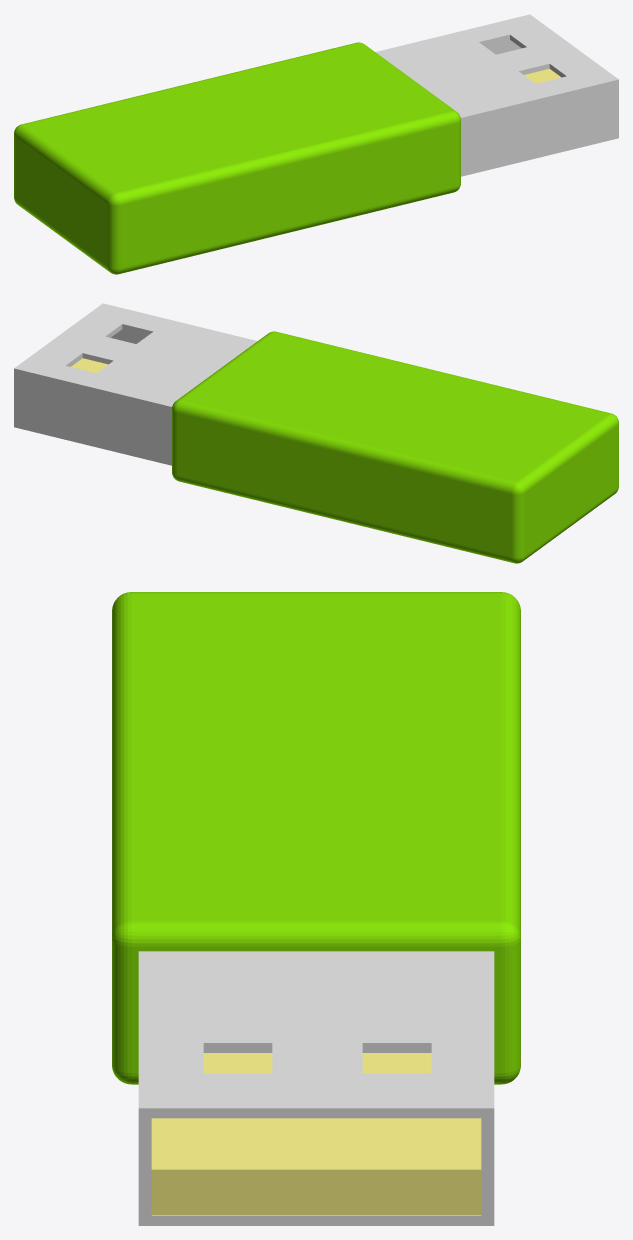
Rendered from Usb2.fbx.
The picture shows the model from 3 angles, top to bottom: view 1: azimuth 30°, elevation 25°; view 2: azimuth 150°, elevation 25°; view 3: azimuth 270°, elevation 25°; orthographic projection. The views are drawn at different scales.
Visible parts, largest first — view 1: Cube, Cube.001; view 2: Cube, Cube.001; view 3: Cube, Cube.001, Cube.002.
Boxes of the visible parts, x1,y1,x2,y2 form: Cube: [14, 42, 460, 274]; Cube.001: [375, 14, 618, 176]; Cube: [172, 331, 618, 563]; Cube.001: [14, 303, 257, 465]; Cube: [112, 592, 520, 1084]; Cube.001: [138, 951, 494, 1225]; Cube.002: [151, 1053, 481, 1215].
Bounding box in the file's own units: 5.79 × 0.8735 × 2.
